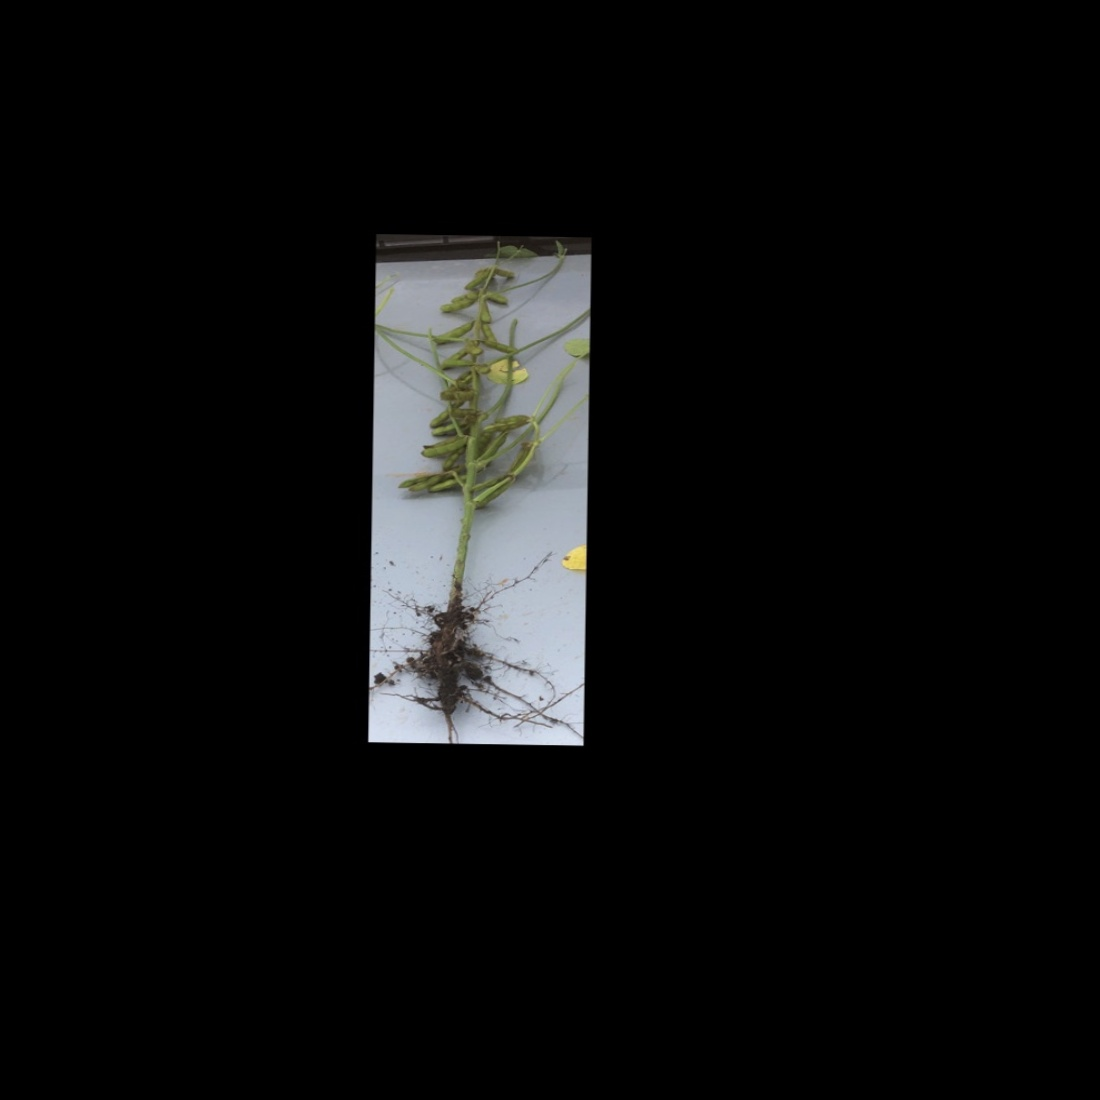pod: (430, 318, 478, 343), (438, 293, 482, 312), (440, 444, 467, 473), (428, 474, 467, 494), (478, 337, 520, 355), (463, 268, 491, 291), (483, 287, 511, 305), (492, 264, 519, 279), (482, 322, 498, 343), (480, 303, 493, 323)
soy: (379, 240, 575, 724)
